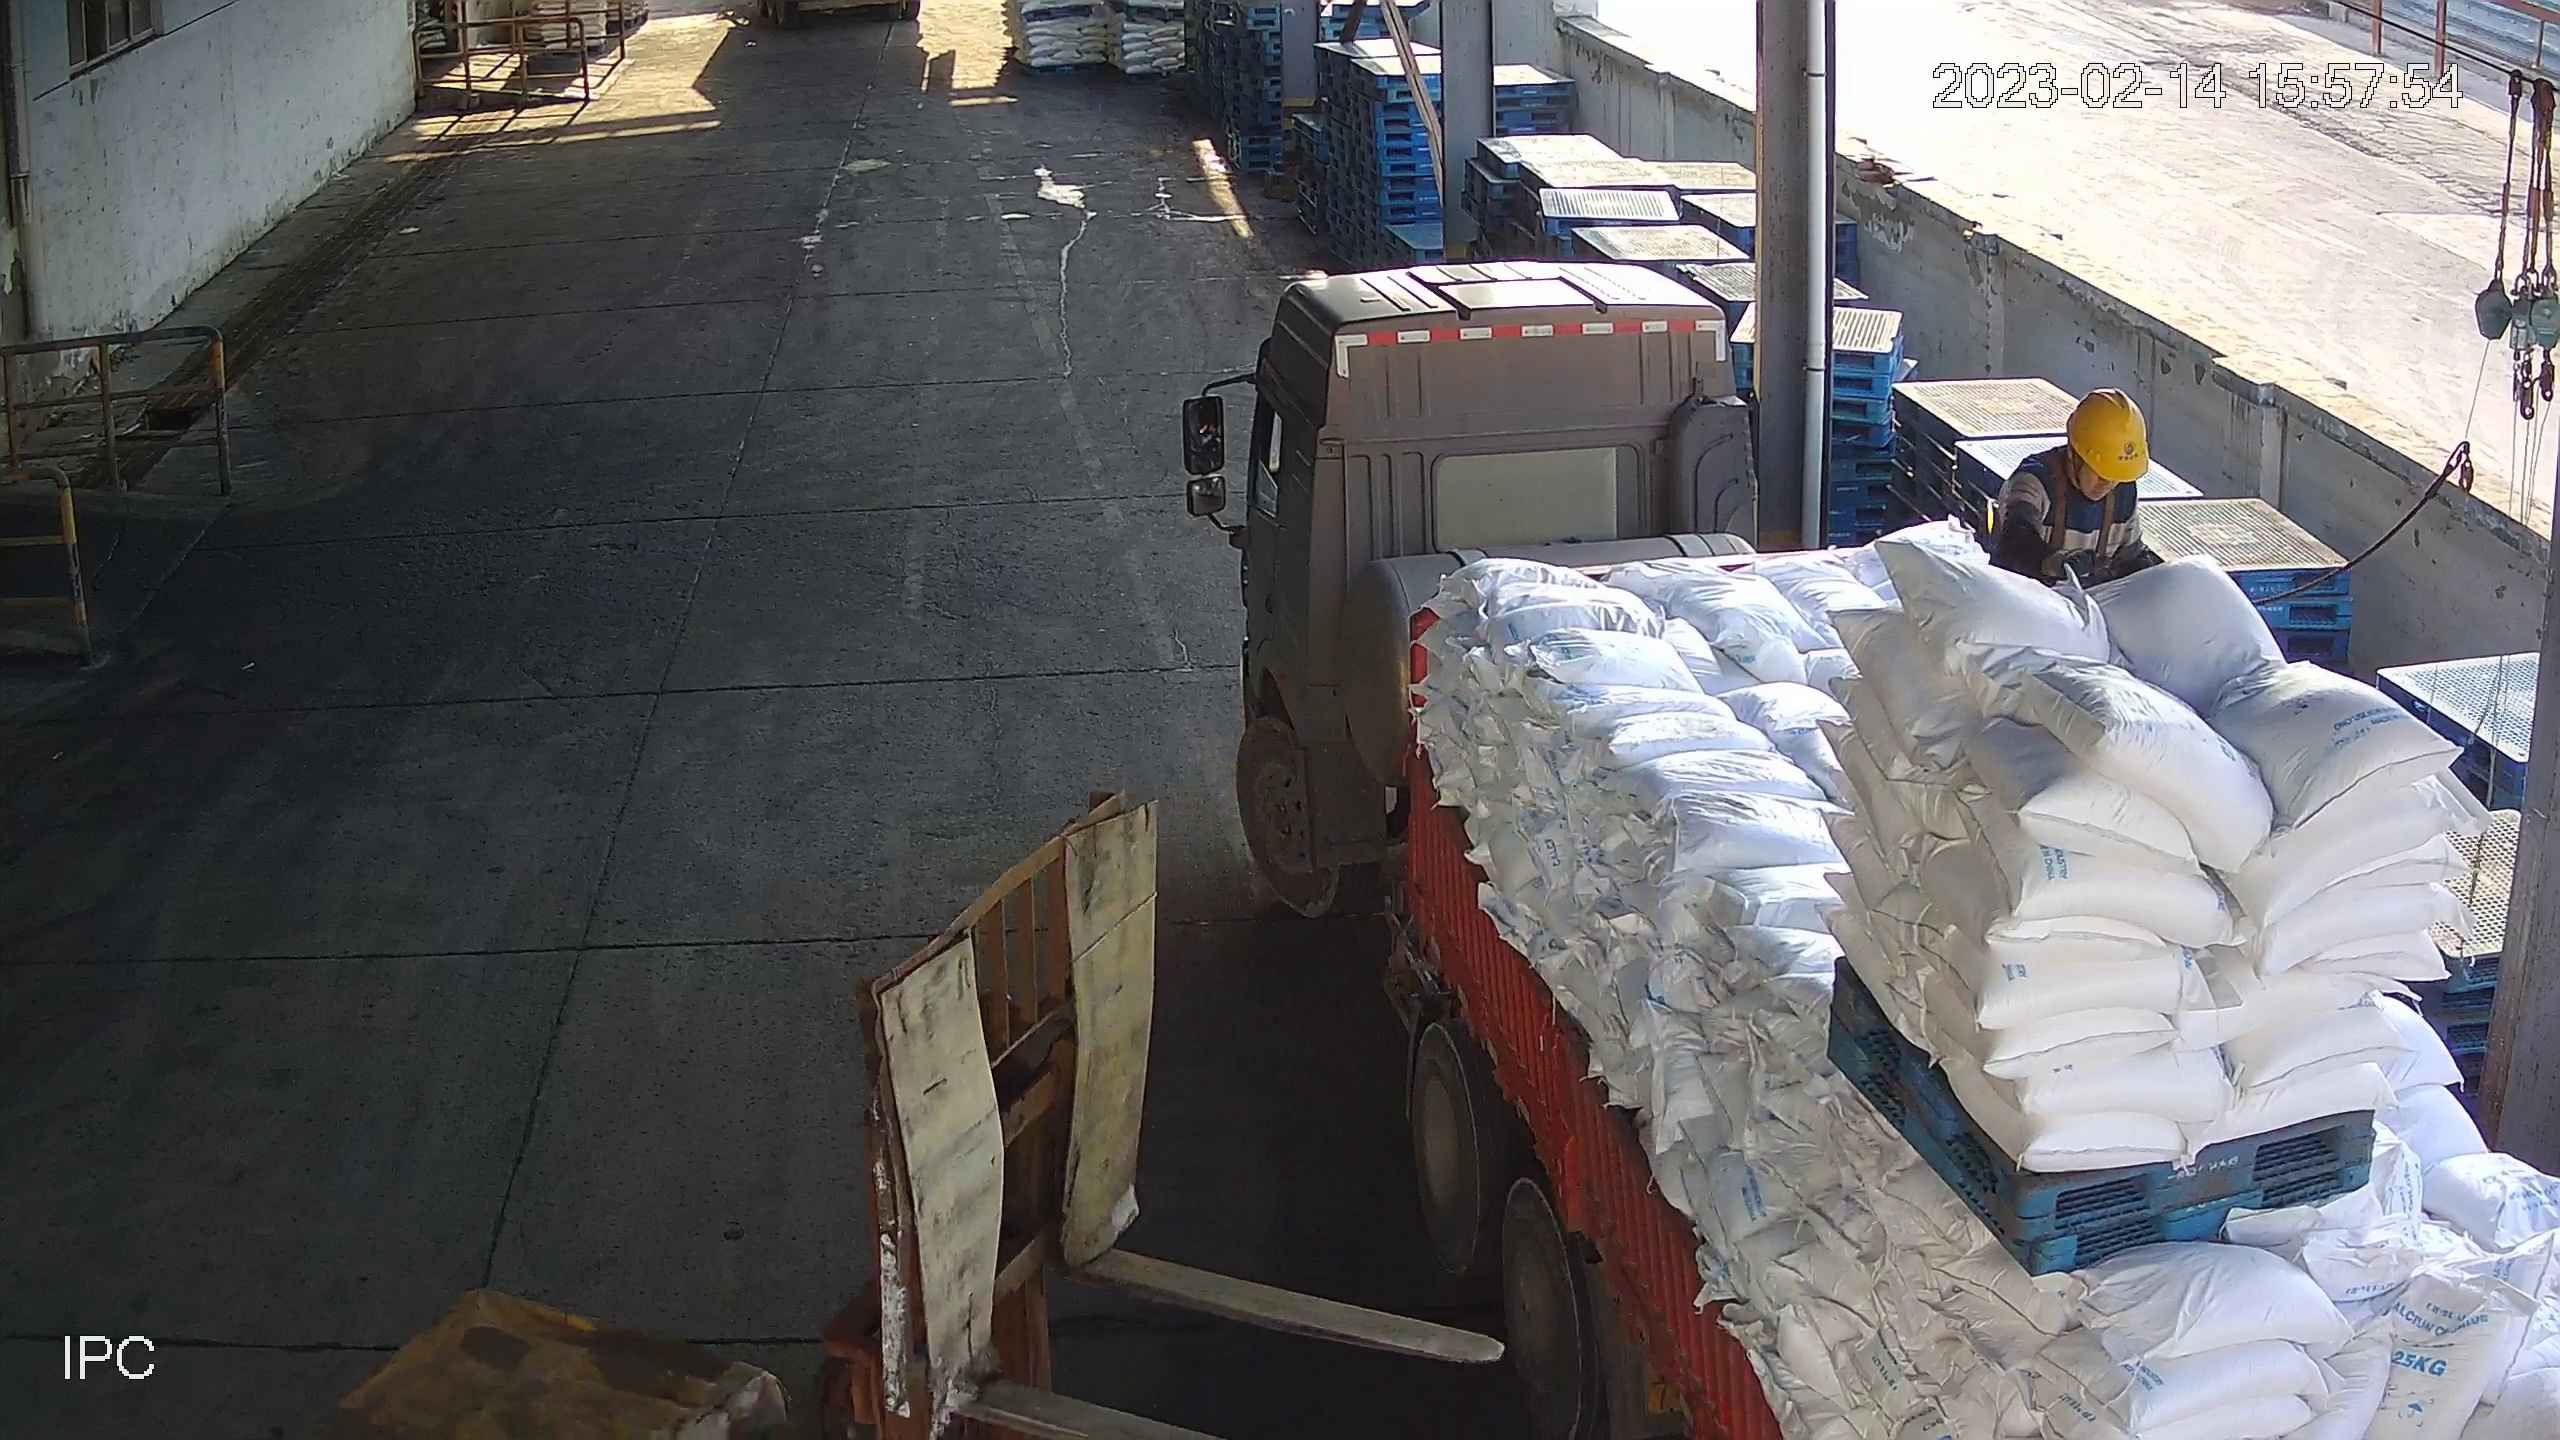belt: (2032, 453, 2126, 560)
head: (2006, 388, 2148, 518)
helmet: (2063, 387, 2152, 483)
truck: (1224, 257, 2560, 1440)
